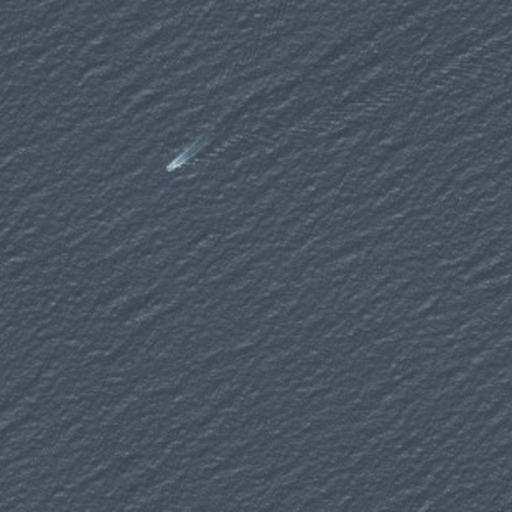ship: (165, 154, 183, 174)
